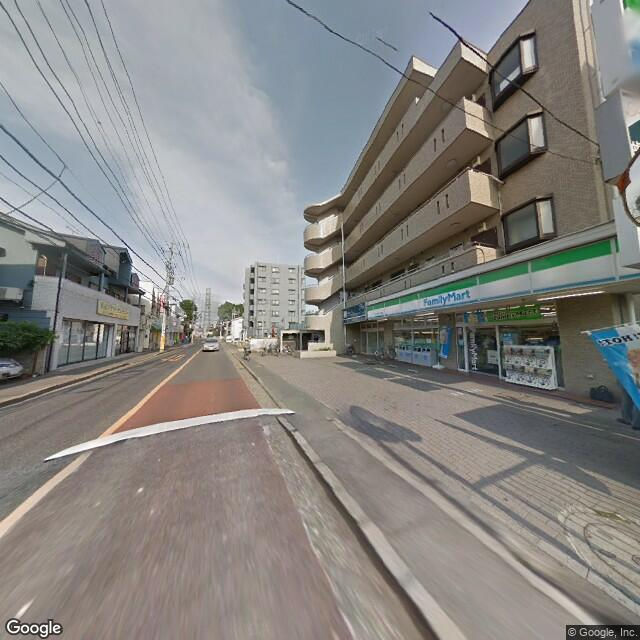family_mart: (364, 235, 620, 322), (421, 284, 475, 313)
